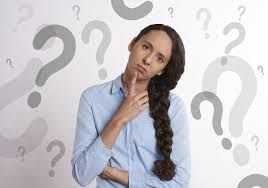no-mask: (118, 21, 188, 82)
